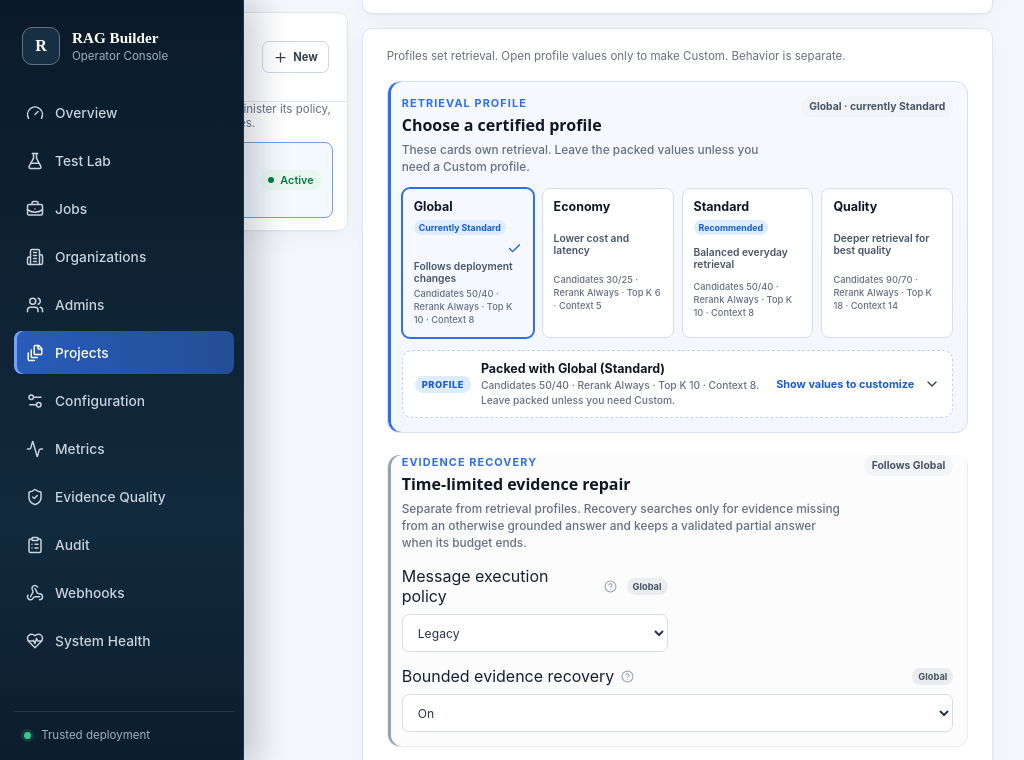
Test: editing Global execution preserves Global lineage
(page scrolled)
Expected: the radio button with aria-label "Global RAG profile" is checked, [402,188,534,338]
Click the button with aria-label "Show profile values": (678, 384) [403,351,952,417]
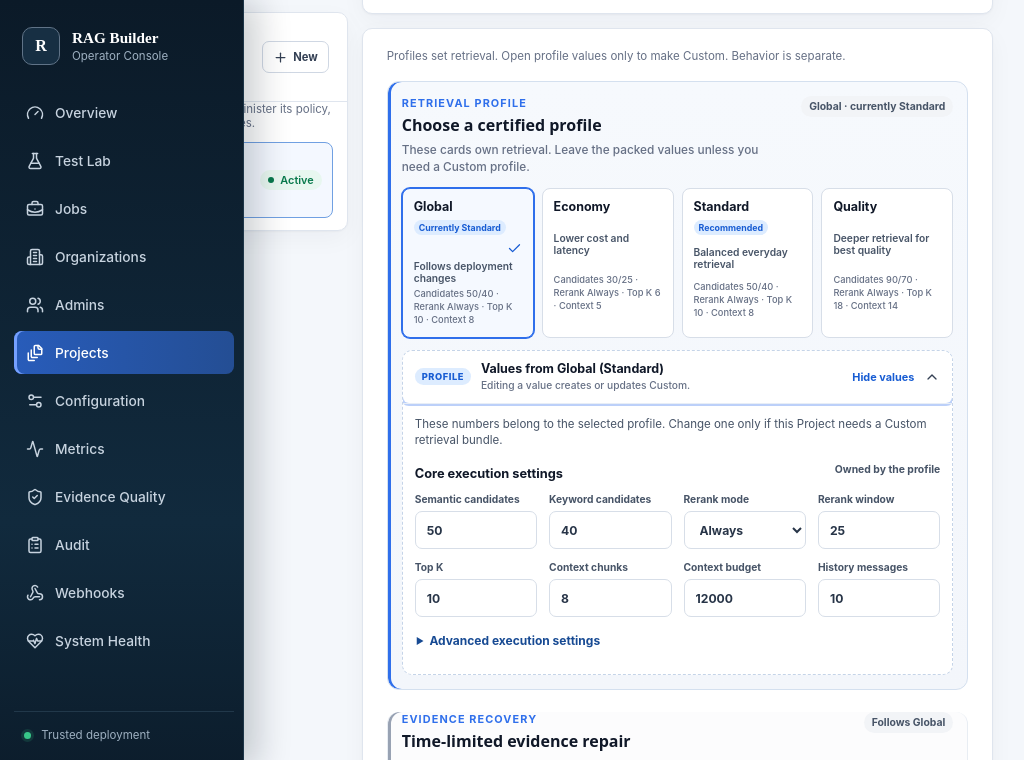
Replace the text in the number field labelled "Top K" with "12": (476, 598) [415,579,537,617]
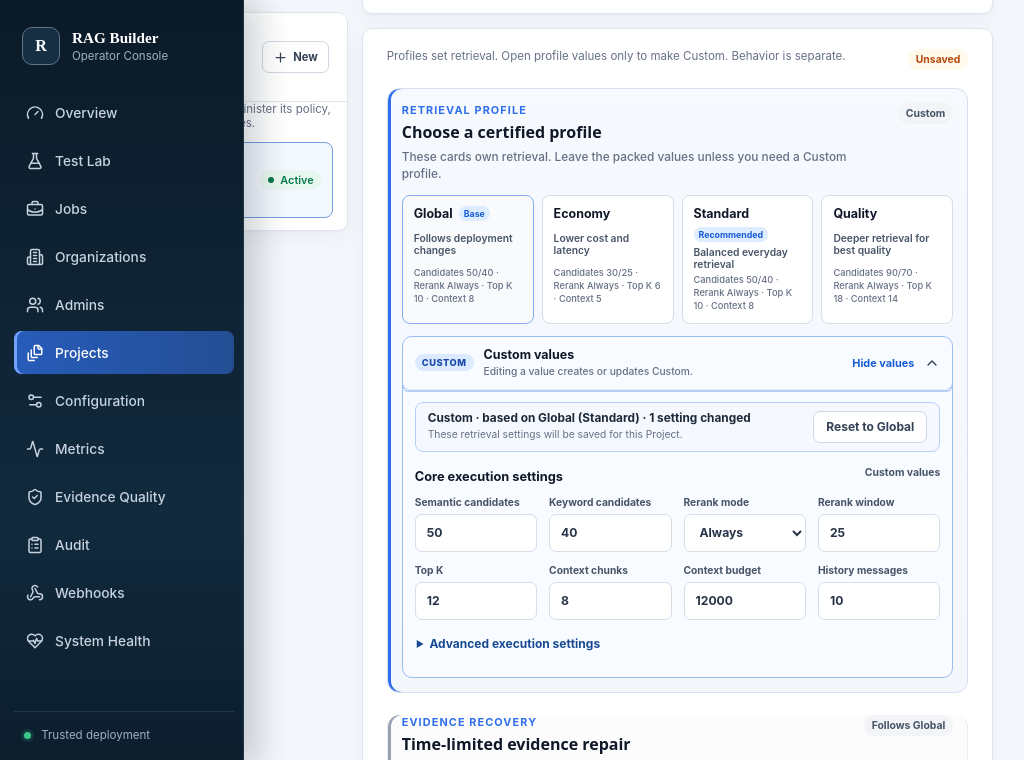
Result: the text "Custom · based on Global (Standard) · 1 setting changed" is shown at [428,412,751,426]
Result: the button "Reset to Global" is shown at [813,411,927,443]
